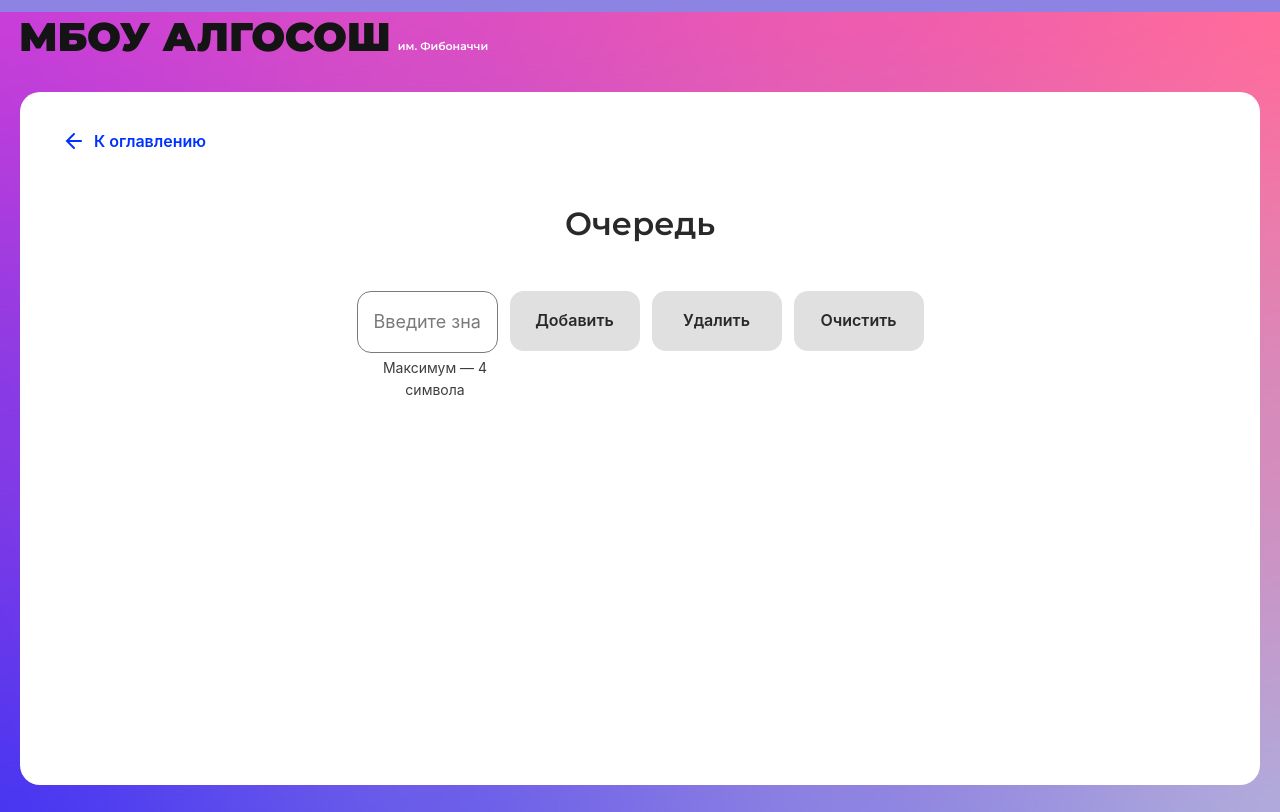
Test: Queue Page › adds an element to the queue and validates animation
Type "42" into the field with test id "input".
click(428, 322); type("42")  # box [357, 291, 498, 353]
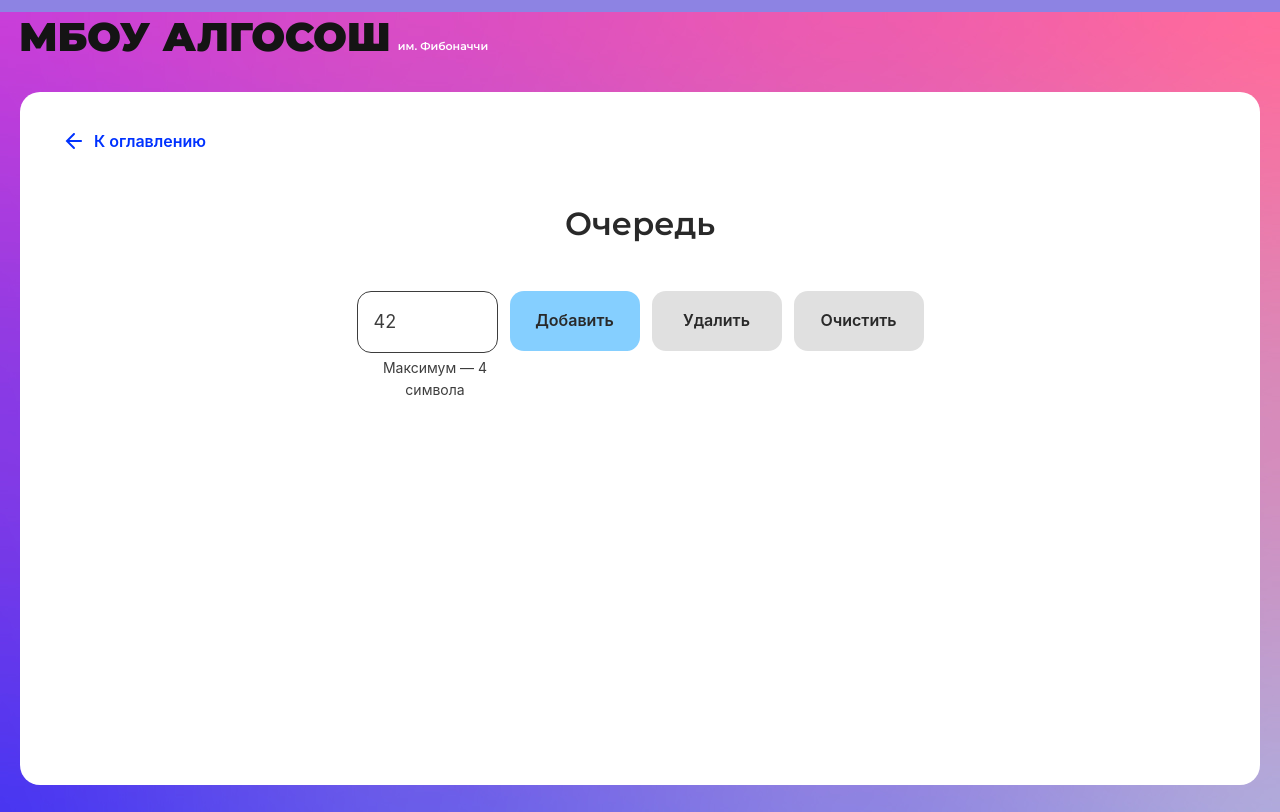
Click the button with test id "add-button".
click(575, 321)  # box [510, 291, 640, 351]
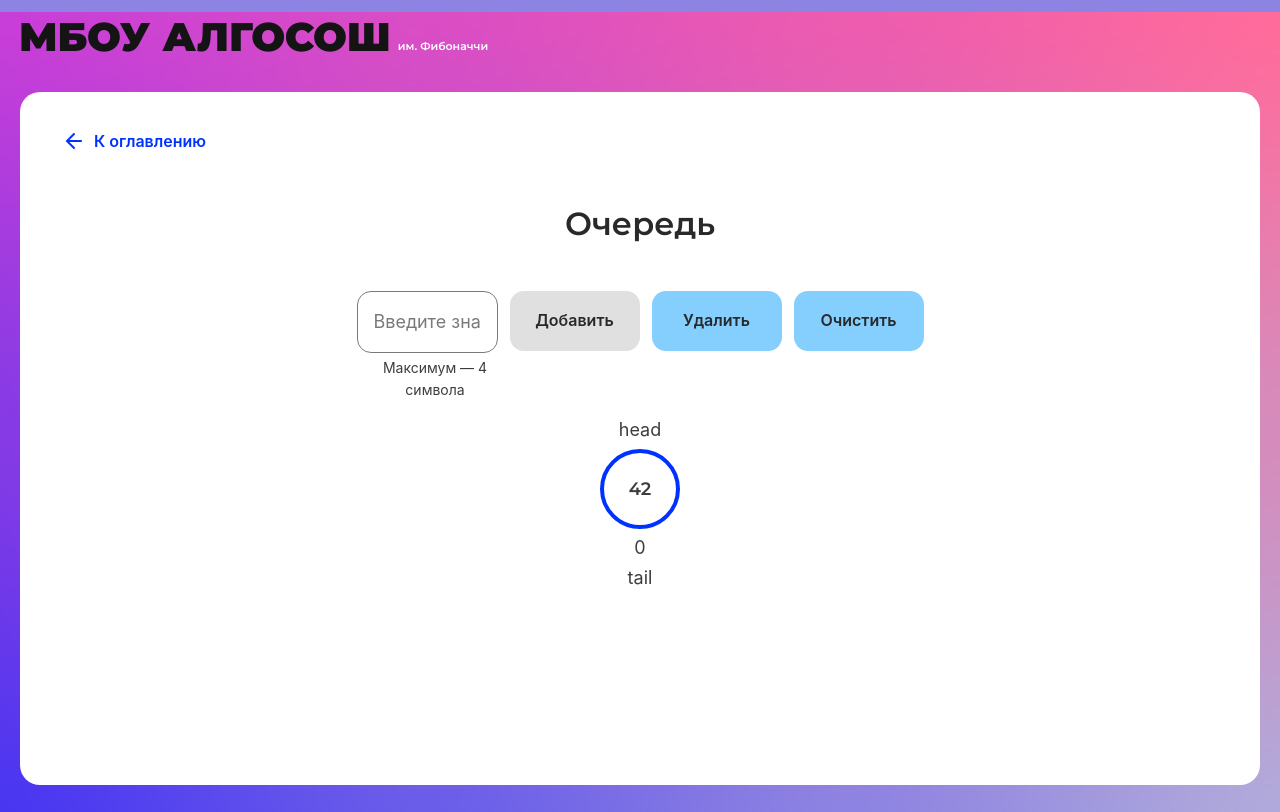
expect the number of elements with test id "circle" is 1: met, box [600, 449, 680, 529]
